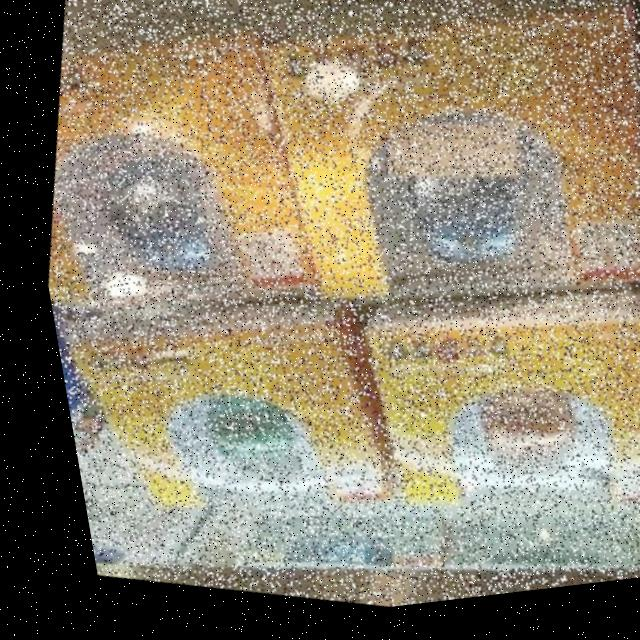mause: (332, 88, 573, 327), (59, 89, 272, 320), (395, 315, 619, 513), (140, 333, 353, 533)
